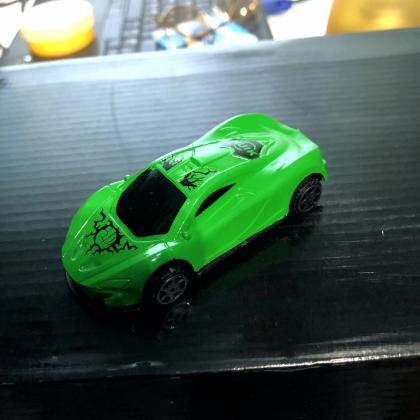Car: (56, 105, 334, 321)
